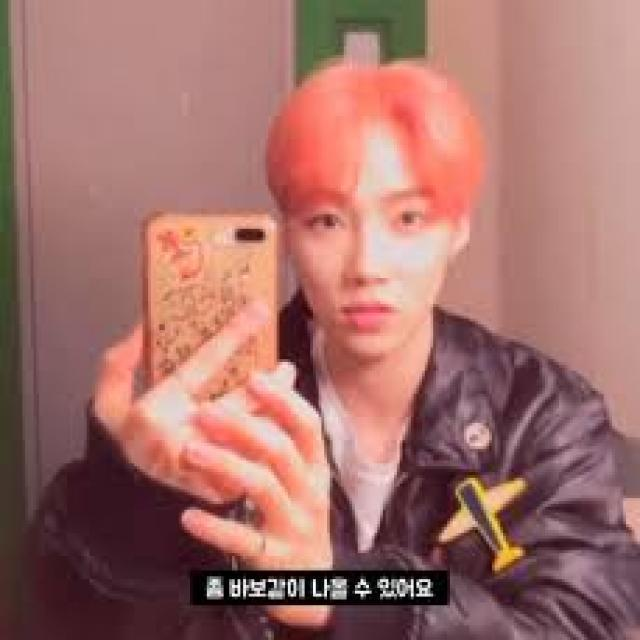Phone: (145, 212, 282, 404)
